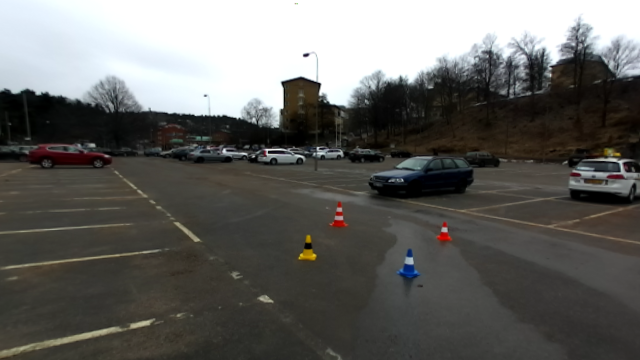blue: (396, 245, 421, 280)
orange: (435, 219, 453, 242)
orange2: (328, 201, 349, 230)
yellow: (296, 234, 316, 261)
